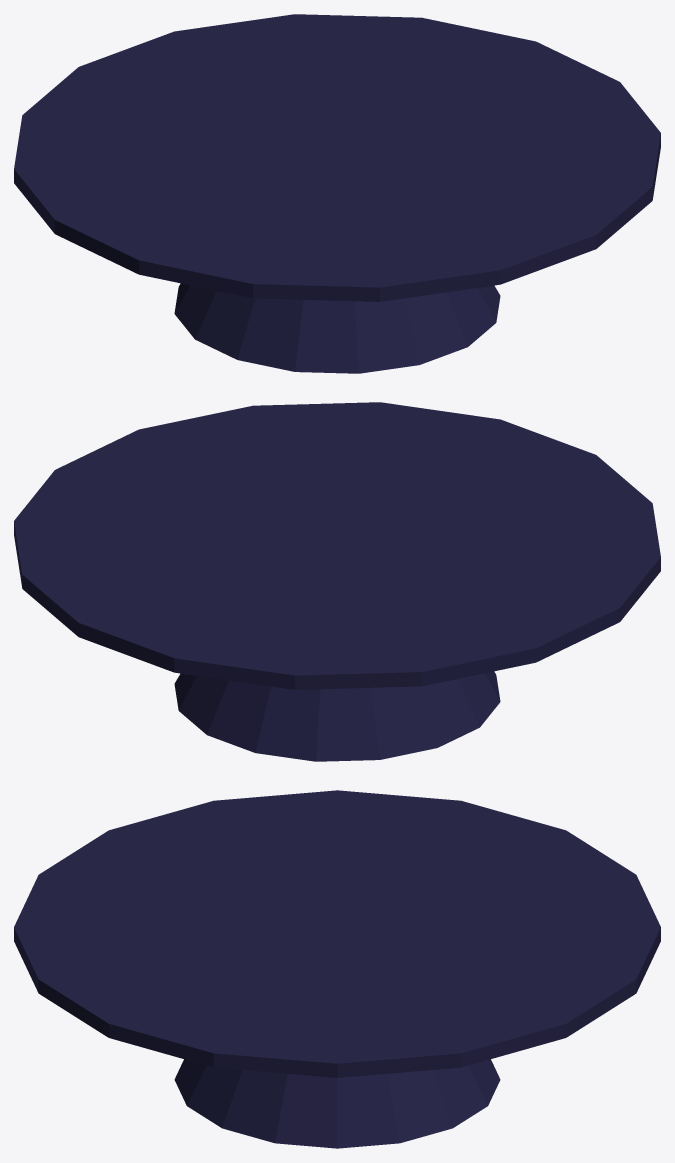
Rendered from coffe table - Copy.fbx.
3 views of the same model, one above another, from view 1: azimuth 30°, elevation 25°; view 2: azimuth 150°, elevation 25°; view 3: azimuth 270°, elevation 25° (orthographic).
Visible parts, largest first — view 1: Cylinder; view 2: Cylinder; view 3: Cylinder.
Part boxes in pixels (x1,y1,x2,y2): Cylinder: (14, 14, 660, 373); Cylinder: (14, 402, 660, 761); Cylinder: (14, 790, 660, 1148).
Size of the model in its own units: 400 by 104 by 400.
